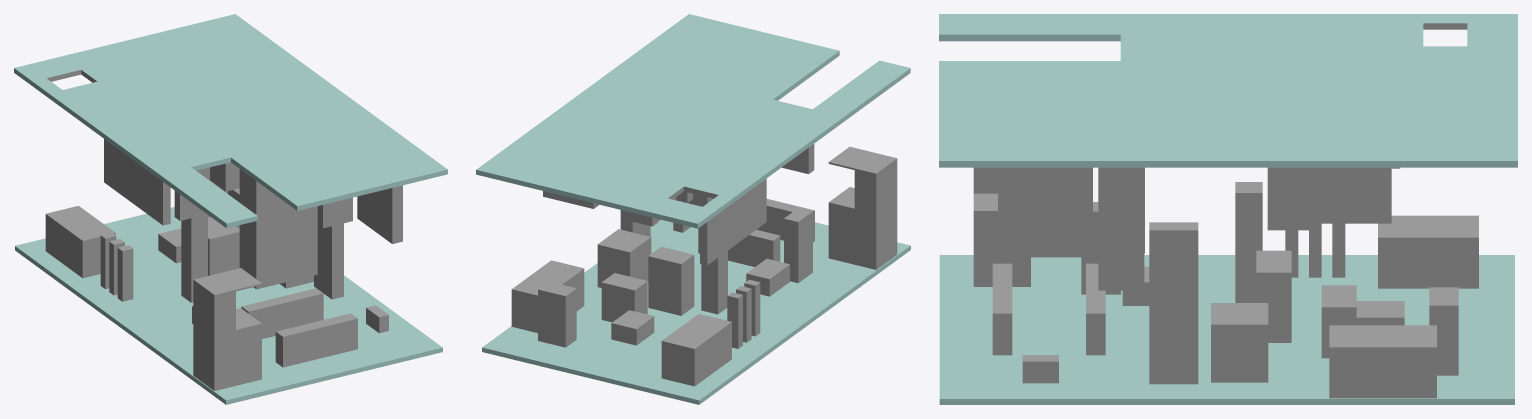
File: terrain.fbx
The picture shows the model from 3 angles, left to right: view 1: azimuth 30°, elevation 25°; view 2: azimuth 150°, elevation 25°; view 3: azimuth 270°, elevation 25°; orthographic projection. The views are drawn at different scales.
Visible parts, largest first — view 1: pCube39; view 2: pCube39; view 3: pCube39.
Part boxes in pixels (x1,y1,x2,y2): pCube39: (14,14,447,404); pCube39: (476,14,910,404); pCube39: (939,14,1517,404).
Size of the model in its own units: 14.91 by 11.76 by 24.76.
